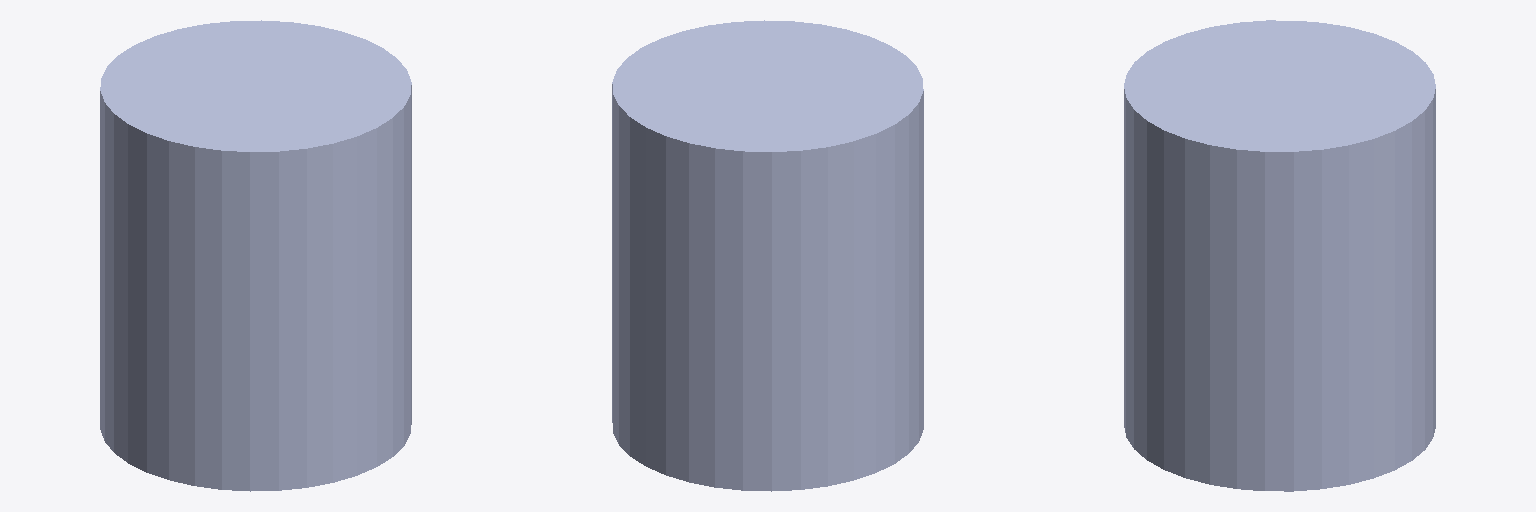
URDF robot description (simple_model):
<?xml version="1.0" encoding="utf-8"?>
<!-- This URDF was automatically created by SolidWorks to URDF Exporter! Originally created by [author] ([email redacted]) 
     Commit Version: 1.5.1-0-g916b5db  Build Version: 1.5.7152.31018
     For more information, please see http://wiki.ros.org/sw_urdf_exporter -->
<robot
  name="simple_model">
  <link
    name="base_link">
    <inertial>
      <origin
        xyz="-0.0111716212614272 0.000138530530096322 -0.0208455424750044"
        rpy="0 0 0" />
      <mass
        value="2.19564697246884" />
      <inertia
        ixx="0.0013018152853814"
        ixy="-2.61288078472396E-06"
        ixz="-1.69009576248431E-07"
        iyy="0.00326324453797515"
        iyz="-6.73295176325135E-08"
        izz="0.00405002027200634" />
    </inertial>
    <visual>
      <origin
        xyz="0 0 0"
        rpy="0 0 0" />
      <geometry>
        <mesh
          filename="package://simple_model/meshes/base_link.STL" />
      </geometry>
      <material
        name="">
        <color
          rgba="1 1 1 1" />
      </material>
    </visual>
    <collision>
      <origin
        xyz="0 0 0"
        rpy="0 0 0" />
      <geometry>
        <mesh
          filename="package://simple_model/meshes/base_link.STL" />
      </geometry>
    </collision>
  </link>
  <link
    name="Lidar_Link">
    <inertial>
      <origin
        xyz="-3.46944695195361E-18 -1.27802362224142E-19 -0.0299080267558528"
        rpy="0 0 0" />
      <mass
        value="0.117417025427919" />
      <inertia
        ixx="5.34494423948965E-05"
        ixy="-2.89058265056656E-21"
        ixz="-1.41807793381556E-21"
        iyy="5.34494423948965E-05"
        iyz="9.86385887115142E-22"
        izz="3.68106301707342E-05" />
    </inertial>
    <visual>
      <origin
        xyz="0 0 0"
        rpy="0 0 0" />
      <geometry>
        <mesh
          filename="package://simple_model/meshes/Lidar_Link.STL" />
      </geometry>
      <material
        name="">
        <color
          rgba="0.792156862745098 0.819607843137255 0.933333333333333 1" />
      </material>
    </visual>
    <collision>
      <origin
        xyz="0 0 0"
        rpy="0 0 0" />
      <geometry>
        <mesh
          filename="package://simple_model/meshes/Lidar_Link.STL" />
      </geometry>
    </collision>
  </link>
  <joint
    name="Lidar_Link"
    type="fixed">
    <origin
      xyz="0 0 0.055"
      rpy="0 0 0" />
    <parent
      link="base_link" />
    <child
      link="Lidar_Link" />
    <axis
      xyz="0 0 0" />
  </joint>

   <gazebo reference="base_link"> 
     <material>Gazebo/Yellow </material>
    </gazebo>

    <gazebo reference="Lidar_Link"> 
     <material>Gazebo/Blue </material>
    </gazebo>

   <gazebo reference="Lidar_Link">
    <sensor type="ray" name="head_hokuyo_sensor">
      <pose>0 0 0 0 0 0</pose>
      <visualize>false</visualize>
      <update_rate>40</update_rate>
      <ray>
        <scan>
          <horizontal>
            <samples>720</samples>
            <resolution>1</resolution>
            <min_angle>-1.570796</min_angle>
            <max_angle>1.570796</max_angle>
          </horizontal>
        </scan>
        <range>
          <min>0.10</min>
          <max>30.0</max>
          <resolution>0.01</resolution>
        </range>
        <noise>
          <type>gaussian</type>

          <mean>0.0</mean>
          <stddev>0.01</stddev>
        </noise>
      </ray>
      <plugin name="gazebo_ros_head_hokuyo_controller" filename="libgazebo_ros_laser.so">
        <topicName>/laser/scan</topicName>
        <frameName>Lidar_Link</frameName>
      </plugin>
     </sensor>
    </gazebo>

</robot>

--- Render facts (derived) ---
3 views of the same robot in one strip: view 1: azimuth 30°, elevation 25°; view 2: azimuth 150°, elevation 25°; view 3: azimuth 270°, elevation 25° (orthographic).
Robot: simple_model — 2 links, 1 joints (1 fixed); root link base_link; default pose: all joints at 0.
Links seen in each view (by area): view 1: Lidar_Link; view 2: Lidar_Link; view 3: Lidar_Link.
Link boxes in pixels (<box>): Lidar_Link: <box>100,20,411,491</box>; Lidar_Link: <box>612,20,923,491</box>; Lidar_Link: <box>1124,20,1435,491</box>.
Size in the robot's own frame: 0.0498 by 0.05 by 0.06 metres.
Meshes: 2 distinct files referenced, 1 mesh visuals loaded (1 binary STL); not drawn: 1 (reference not matched to a file when rendering).
